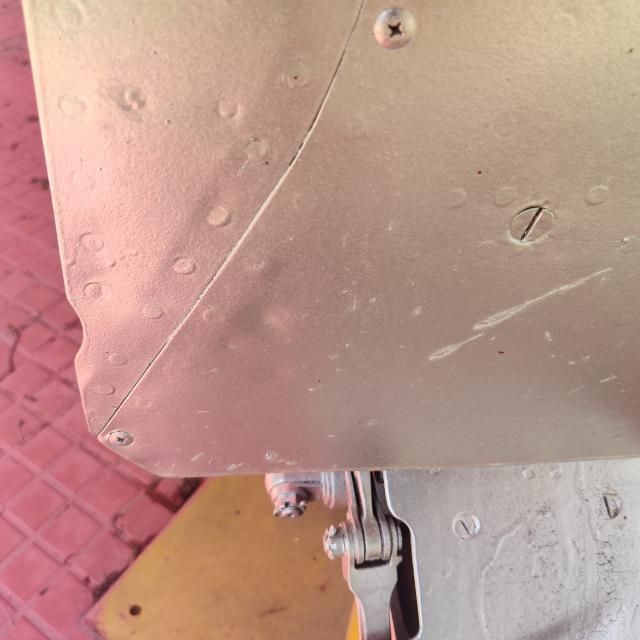dent: (205, 273, 303, 369)
